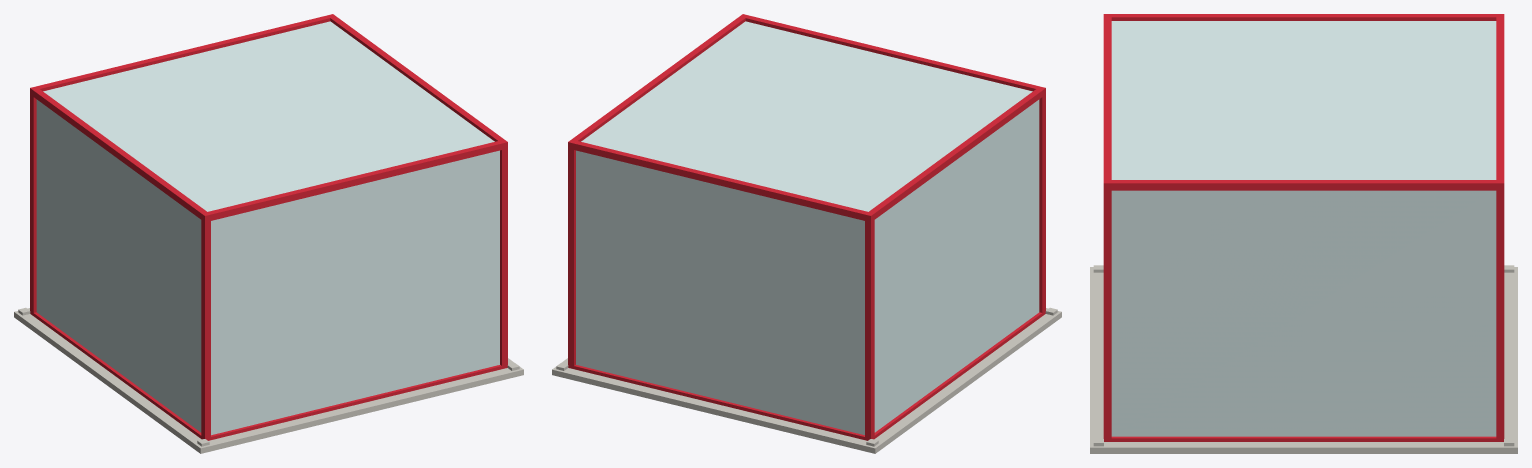
File: taj-mahal-india-agarta.glb
3 views of the same model, side by side, from view 1: azimuth 30°, elevation 25°; view 2: azimuth 150°, elevation 25°; view 3: azimuth 270°, elevation 25° (orthographic). The views are drawn at different scales.
Size of the model in its own units: 0.368 by 0.2515 by 0.368.
